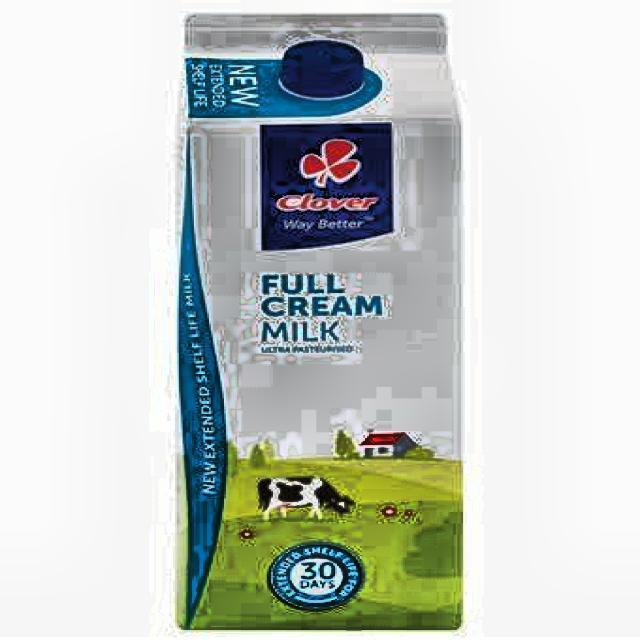cardboard: (173, 11, 463, 630)
